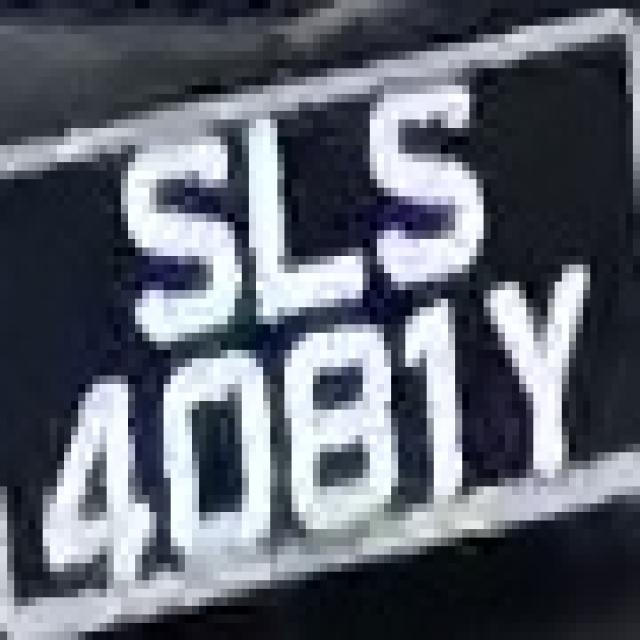0: (164, 341, 292, 555)
1: (398, 282, 484, 554)
4: (28, 367, 156, 572)
8: (263, 324, 391, 538)
L: (213, 86, 370, 342)
S: (100, 111, 242, 358), (348, 51, 476, 324)
Y: (462, 256, 612, 512)
